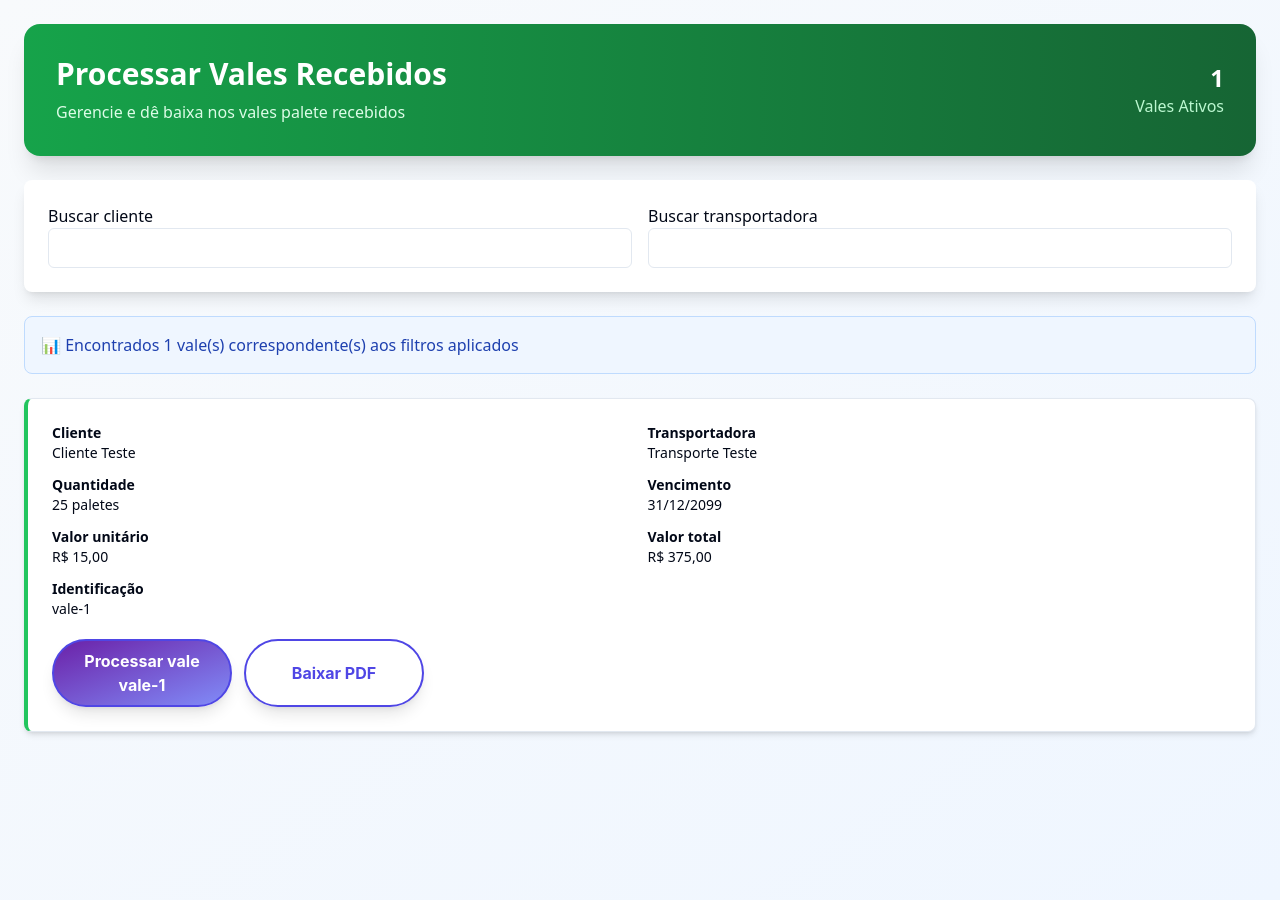
Test: fluxo principal com componentes reais › processa o vale exibido e o retira da lista após confirmação da API
Step 1. Click the button "Processar vale vale-1" → click(142, 673), box [52,639,232,707]
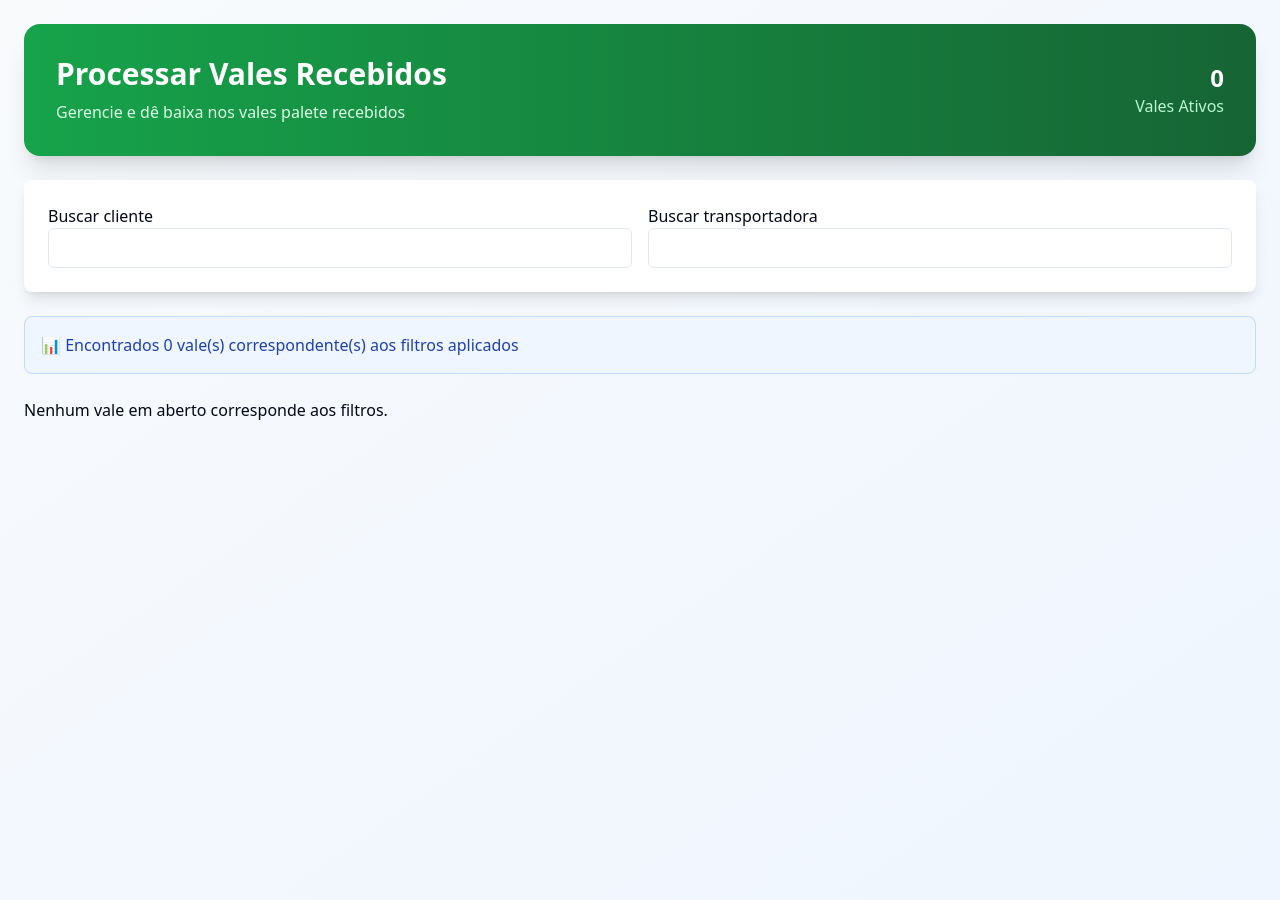
Check: the text "Nenhum vale em aberto corresponde aos filtros." is shown, box [24,399,388,421]
